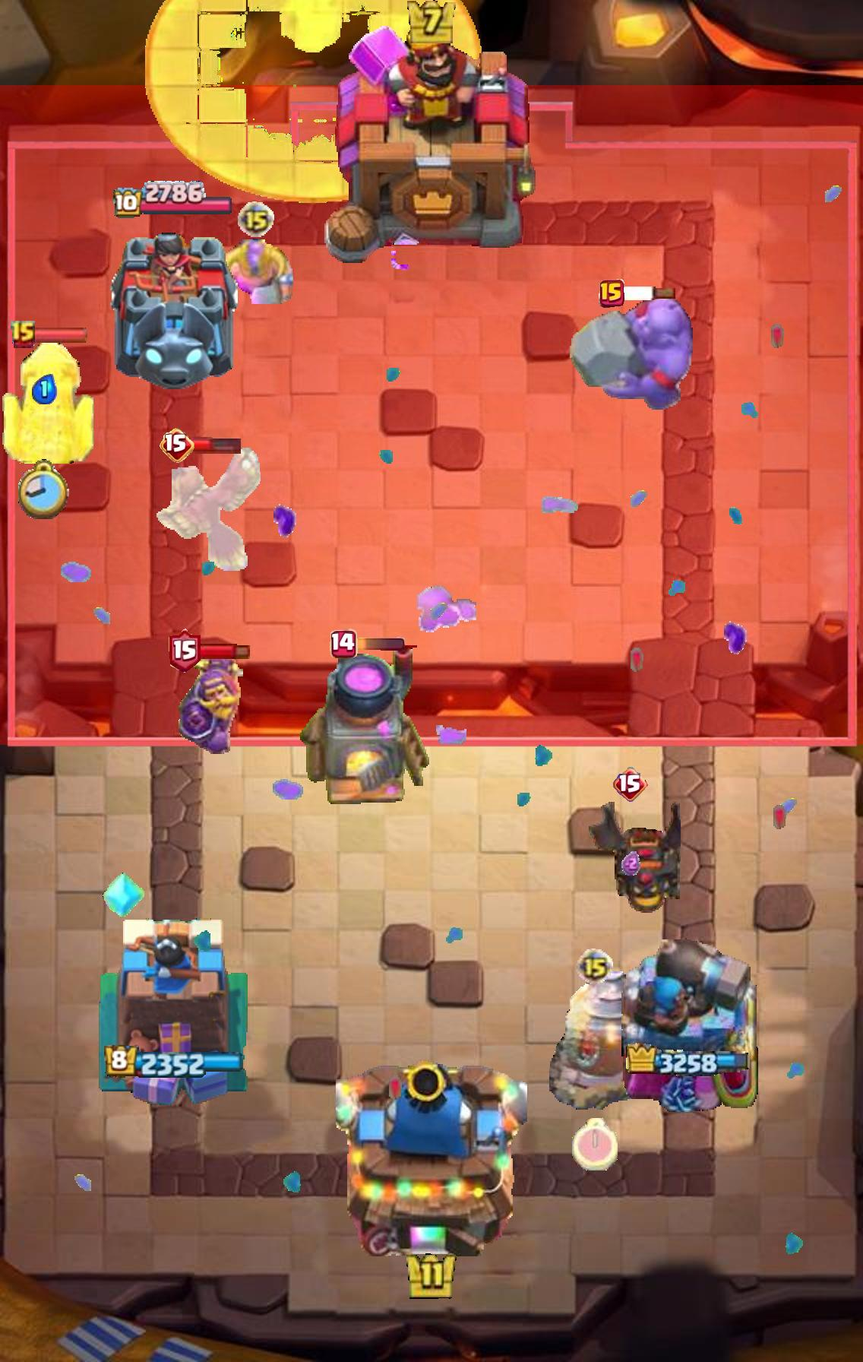elixir: (31, 374, 57, 404), (621, 851, 640, 876)
